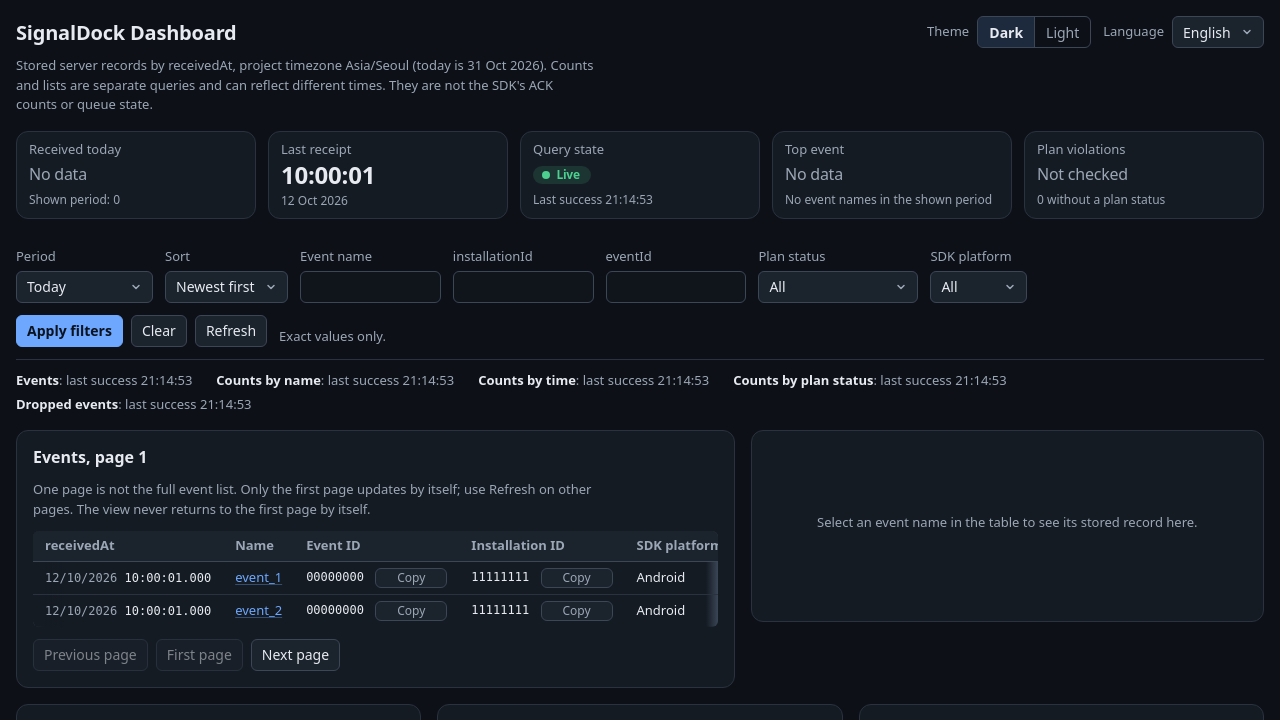
App (en) › keeps a past page in place while the first page keeps polling
Check: the button "event_1" is shown, box [235,568,282,587]
Click the button "Next page" at (295, 655), box [251,639,340,671]
Wait 30000 ms
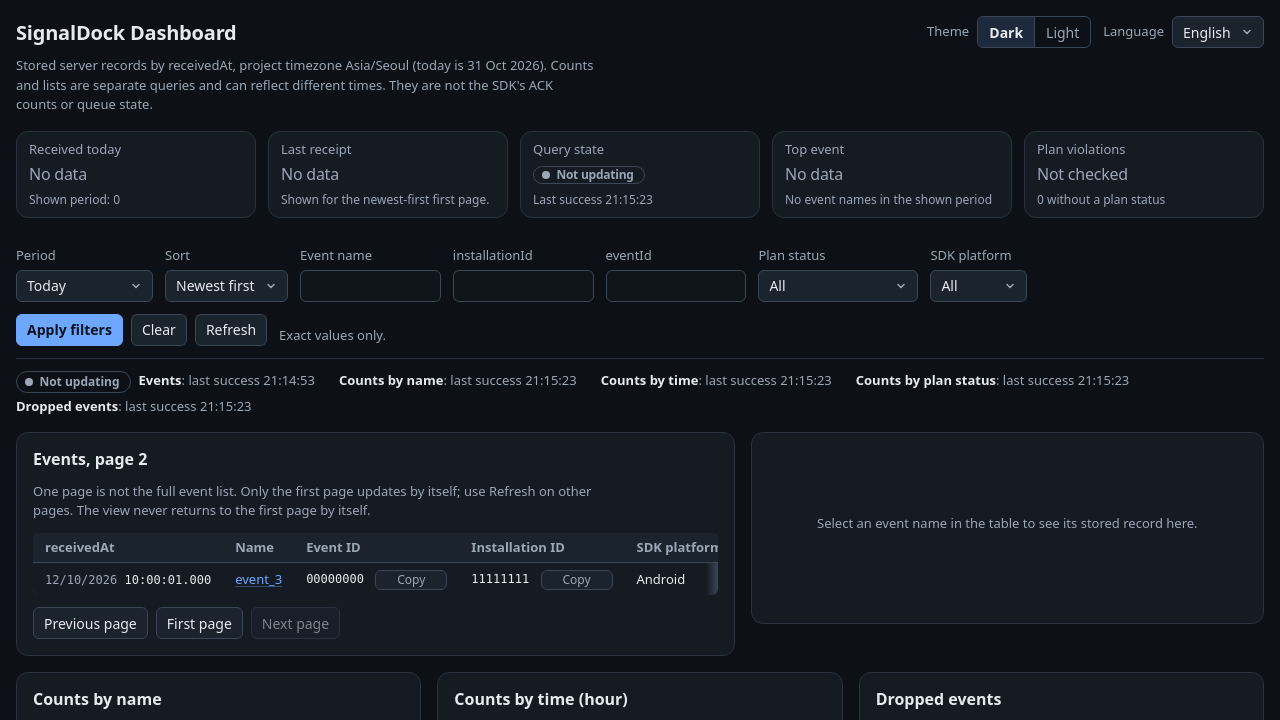
Check: the button "event_3" is shown, box [235,570,282,589]
Check: the button "event_1" is gone
Click the button "Refresh" at (231, 330), box [195,314,267,346]
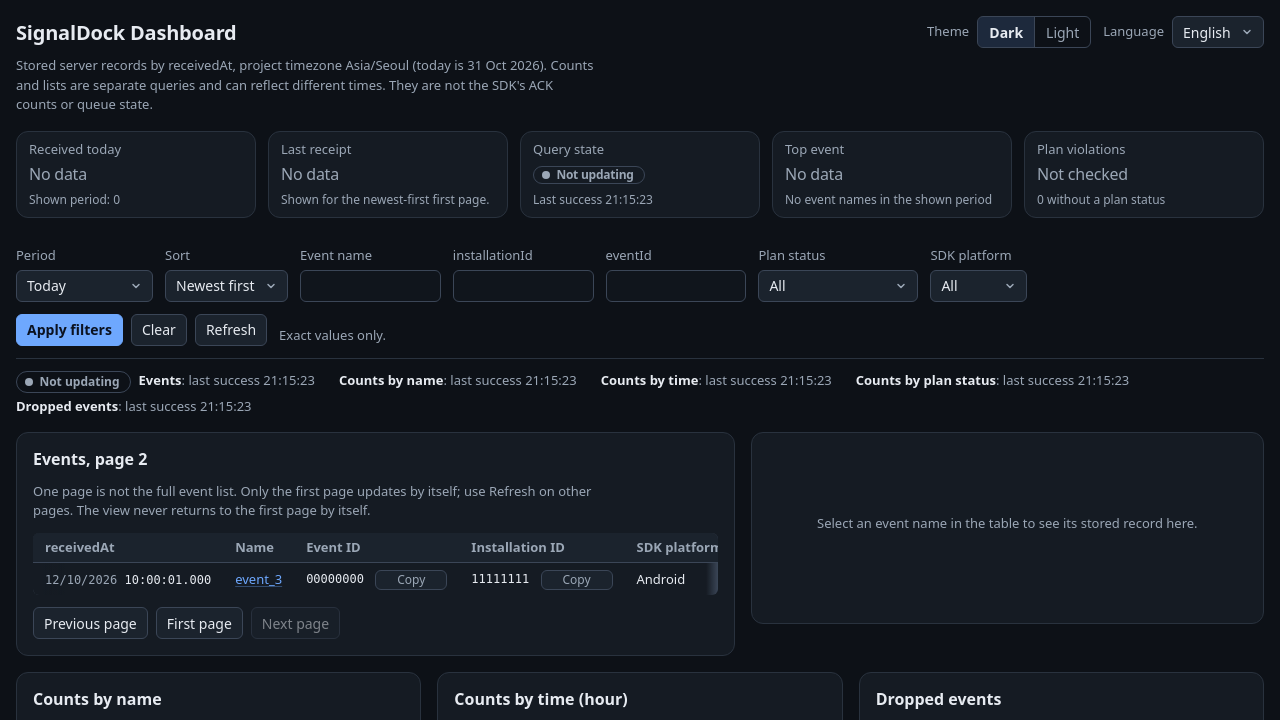
Click the button "First page" at (199, 623), box [156,607,243,639]
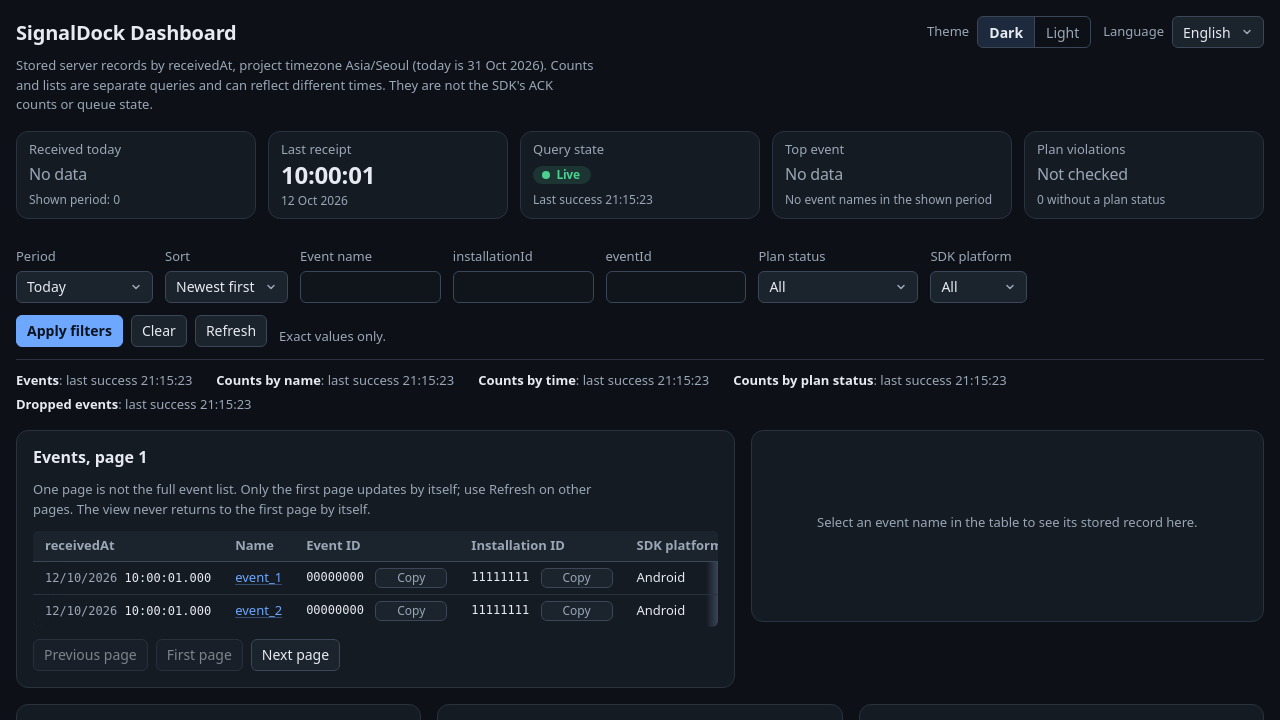
Check: the button "event_1" is shown, box [235,568,282,587]
